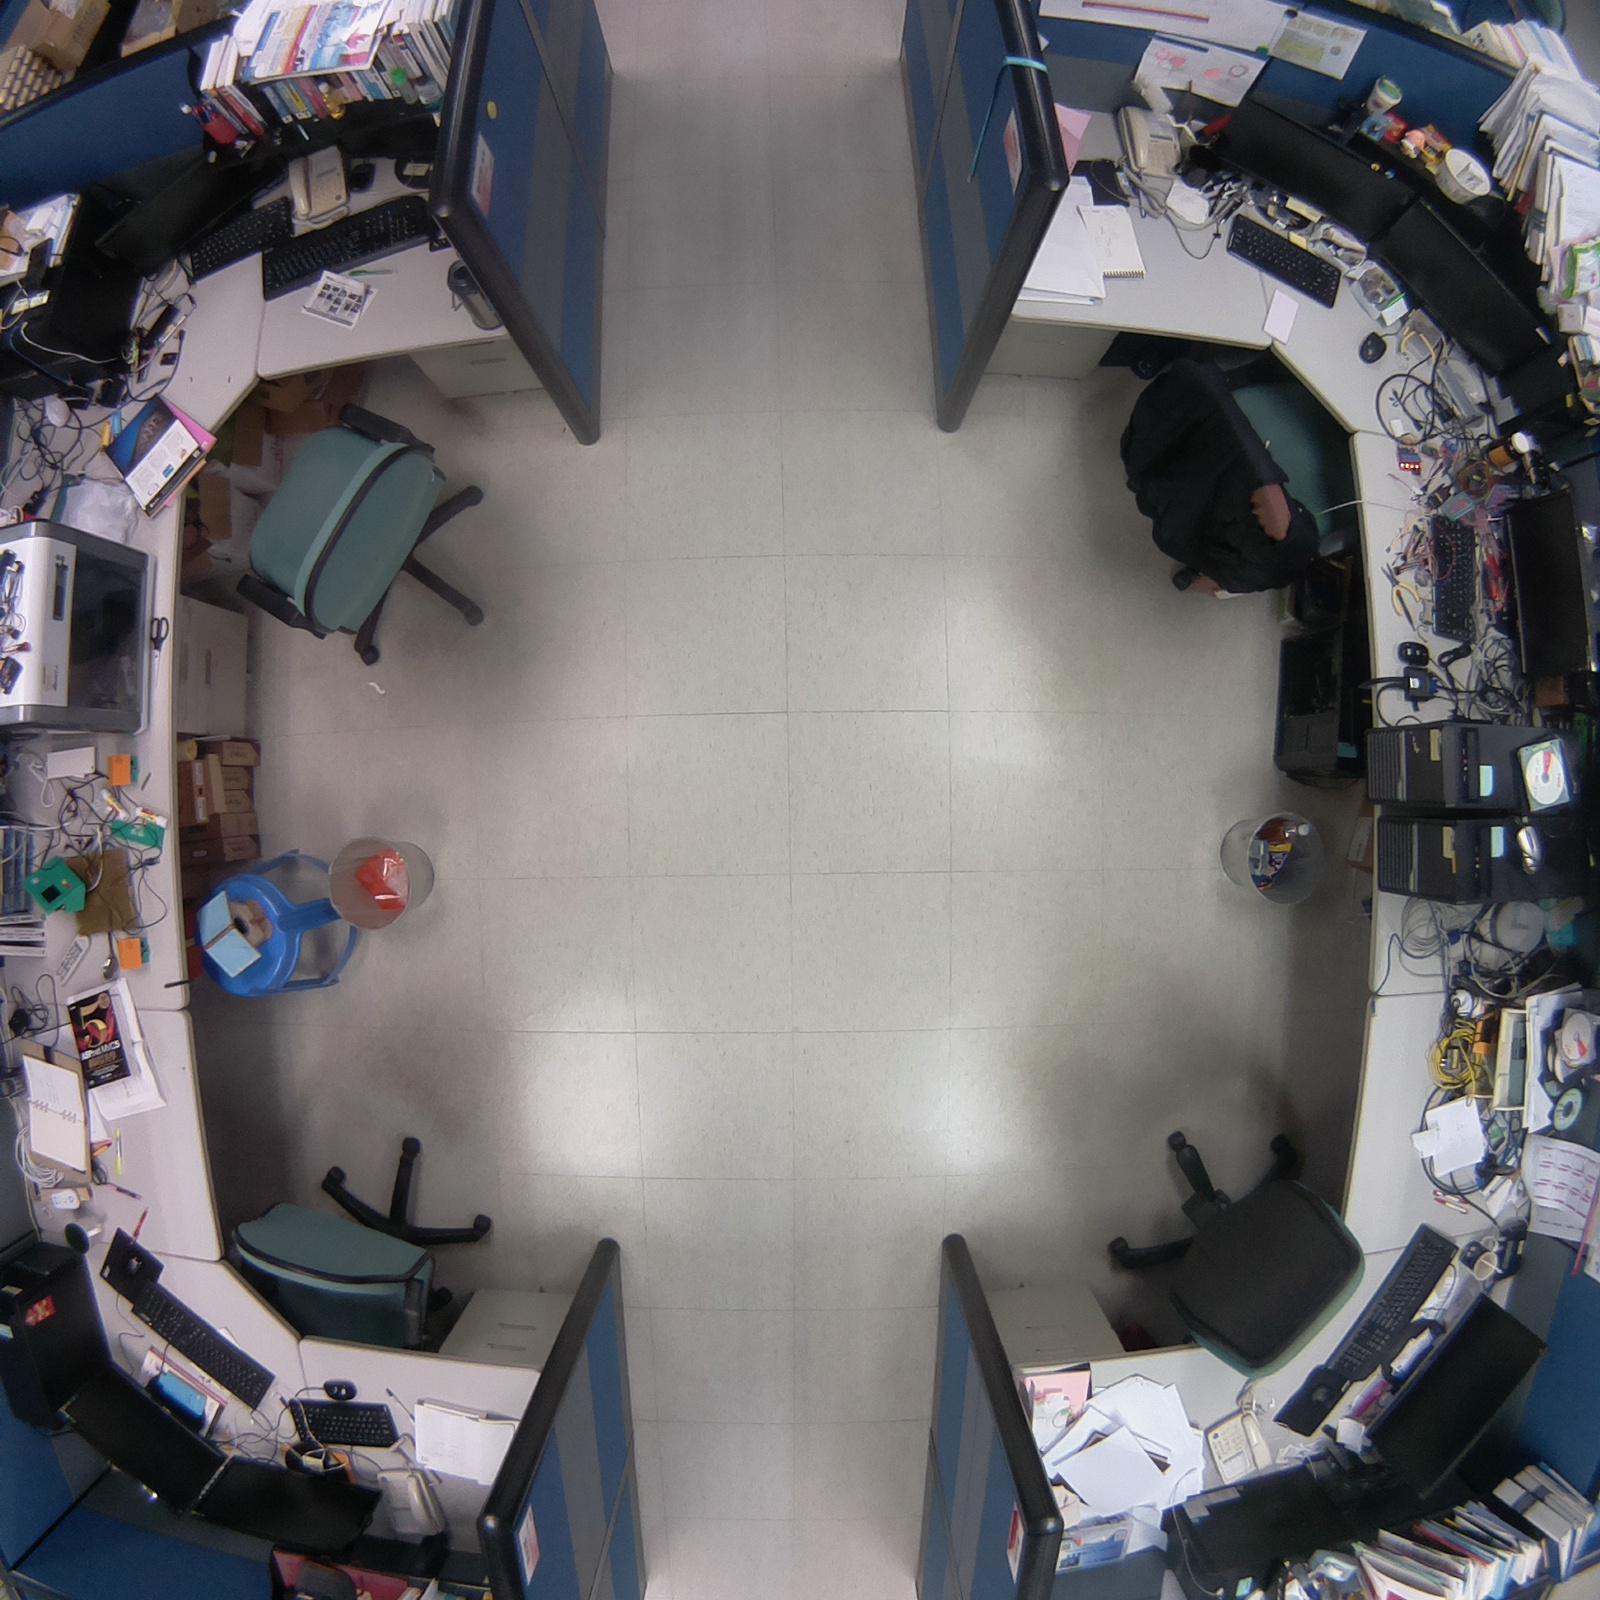chair: (1097, 1103, 1383, 1402), (218, 393, 497, 687), (1111, 314, 1382, 615), (212, 1124, 503, 1371)
